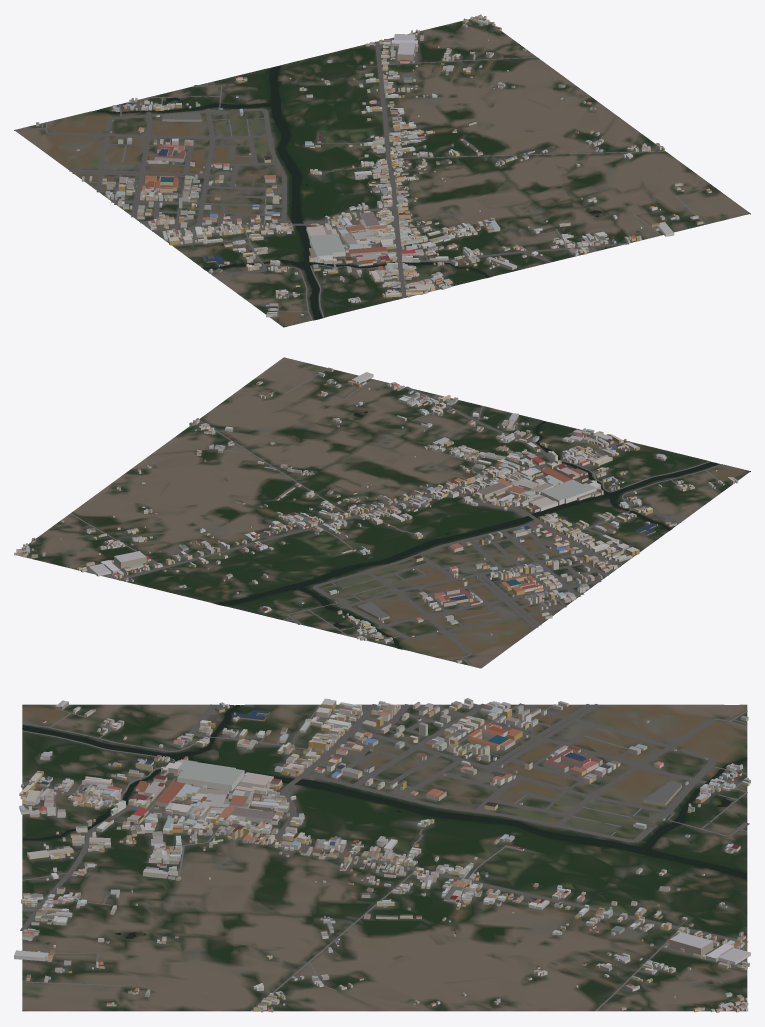
3 views of the same model, one above another, from view 1: azimuth 30°, elevation 25°; view 2: azimuth 150°, elevation 25°; view 3: azimuth 270°, elevation 25° (orthographic). The views are drawn at different scales.
Visible parts, largest first — view 1: ground, buildings, roads, water; view 2: ground, buildings, roads, water; view 3: ground, buildings, roads, water.
Part boxes in pixels (x1,y1,x2,y2): ground: [14, 19, 750, 327]; buildings: [36, 14, 711, 317]; roads: [23, 40, 705, 320]; water: [95, 65, 601, 319]; ground: [16, 357, 750, 668]; buildings: [14, 367, 738, 663]; roads: [70, 369, 726, 666]; water: [215, 411, 719, 648]; ground: [22, 704, 747, 1011]; buildings: [14, 698, 750, 1012]; roads: [20, 703, 749, 1011]; water: [22, 705, 747, 938].
Bounding box in the file's own units: 1415 × 27.55 × 1424.
